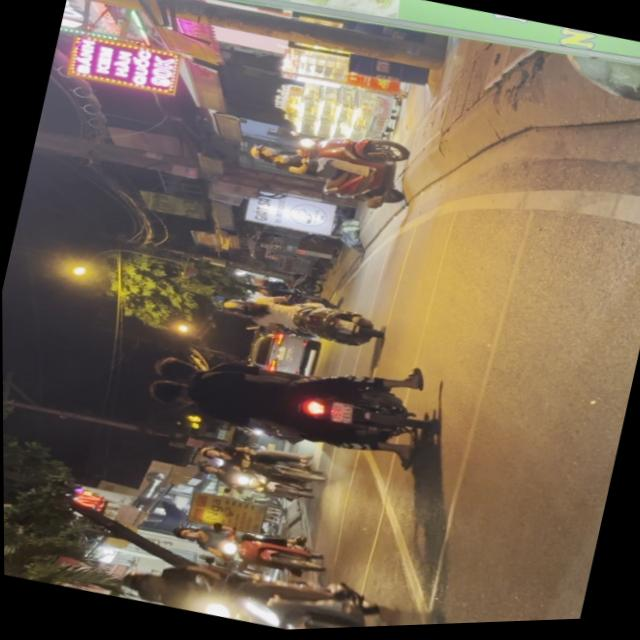helmet: (244, 143, 281, 167)
licenseplate: (133, 323, 446, 485), (109, 532, 404, 637)
motorcyclist: (115, 565, 169, 605), (150, 355, 200, 390), (142, 377, 190, 412)
nohelmet: (326, 403, 352, 428)
